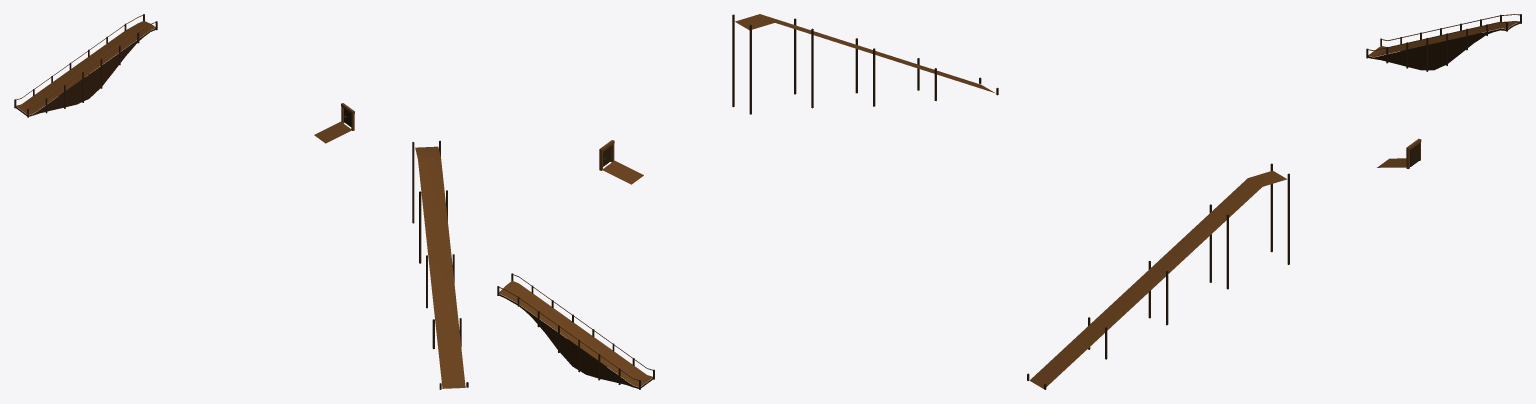
Rendered from amberwood-access.glb.
3 renders of one model, left to right at view 1: azimuth 30°, elevation 25°; view 2: azimuth 150°, elevation 25°; view 3: azimuth 330°, elevation 25°, orthographic. The views are drawn at different scales.
Parts seen in each view (by area): view 1: Walk_Amber_MarketCanopyStair, Walk_Amber_RootRamp, Amber_RootRamp_Skirt, Amber_MarketCanopyStair_Posts, Amber_RootRamp_Posts, Walk_Motherroot_RootHatch; view 2: Walk_Amber_RootRamp, Amber_RootRamp_Skirt, Amber_MarketCanopyStair_Posts, Walk_Amber_MarketCanopyStair, Amber_RootRamp_Posts, Walk_Motherroot_RootHatch; view 3: Walk_Amber_MarketCanopyStair, Amber_RootRamp_Skirt, Amber_MarketCanopyStair_Posts, Walk_Amber_RootRamp, Amber_RootRamp_Posts.
Boxes of the visible parts, bbox=[...] form: Walk_Amber_MarketCanopyStair: bbox=[415, 146, 465, 388]; Walk_Amber_RootRamp: bbox=[16, 21, 155, 114]; Amber_RootRamp_Skirt: bbox=[15, 28, 155, 116]; Amber_MarketCanopyStair_Posts: bbox=[412, 140, 468, 389]; Amber_RootRamp_Posts: bbox=[14, 14, 157, 117]; Walk_Motherroot_RootHatch: bbox=[314, 121, 352, 143]; Walk_Amber_RootRamp: bbox=[499, 281, 652, 386]; Amber_RootRamp_Skirt: bbox=[499, 294, 653, 388]; Amber_MarketCanopyStair_Posts: bbox=[732, 14, 998, 114]; Walk_Amber_MarketCanopyStair: bbox=[735, 14, 995, 93]; Amber_RootRamp_Posts: bbox=[497, 273, 654, 389]; Walk_Motherroot_RootHatch: bbox=[602, 160, 643, 184]; Walk_Amber_MarketCanopyStair: bbox=[1029, 170, 1286, 388]; Amber_RootRamp_Skirt: bbox=[1368, 22, 1520, 70]; Amber_MarketCanopyStair_Posts: bbox=[1027, 163, 1289, 389]; Walk_Amber_RootRamp: bbox=[1368, 21, 1519, 56]; Amber_RootRamp_Posts: bbox=[1366, 14, 1521, 71].
Bounding box in the file's own units: 29.96 × 20.49 × 108.
